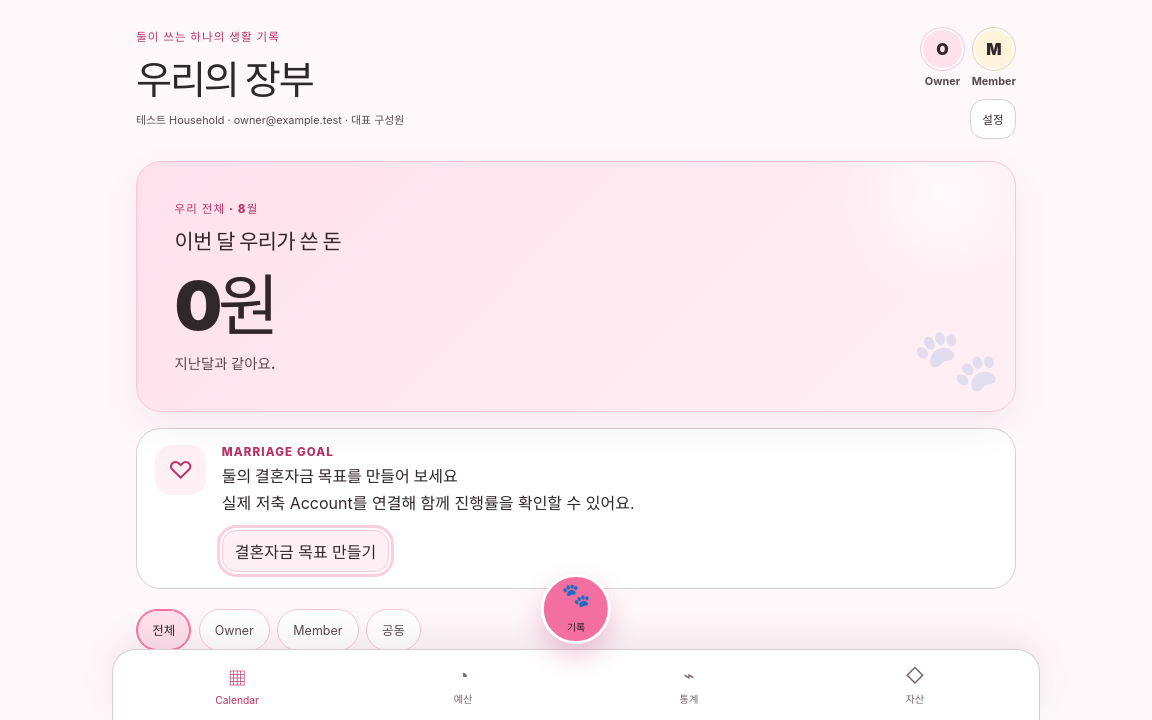
Test: App › restores the Calendar Goal create opener when the Sheet is cancelled
Click the button "결혼자금 목표 만들기" at (306, 551), box [222, 530, 389, 572]
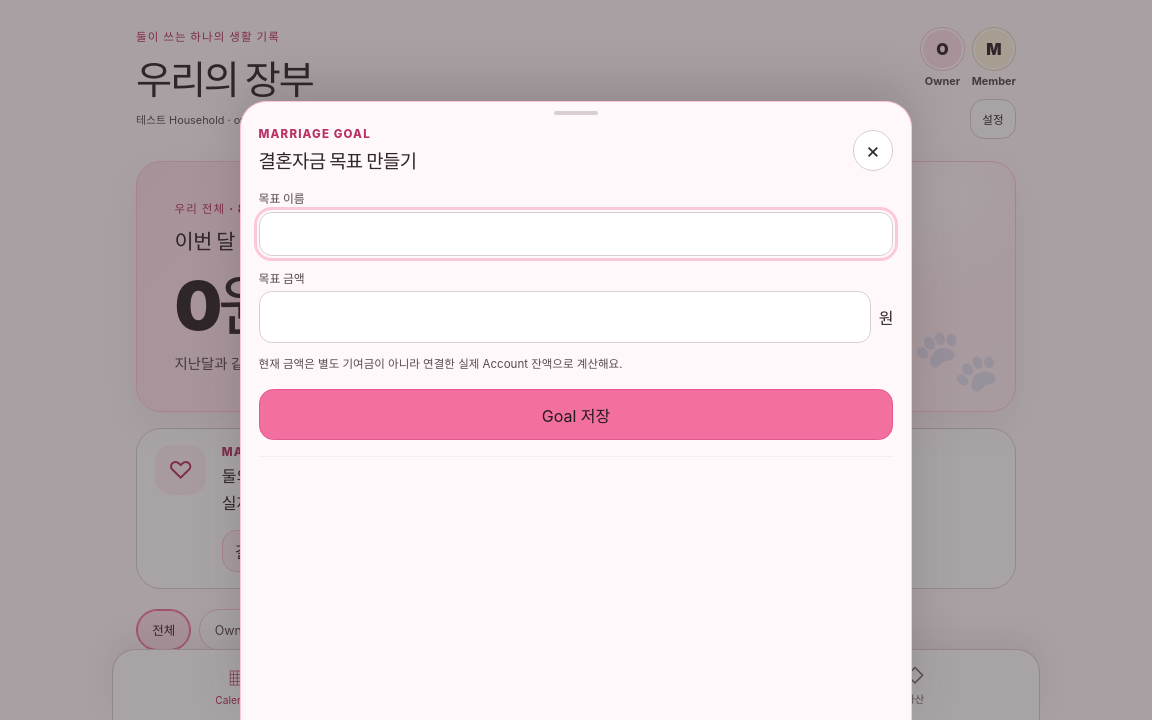
Press Escape
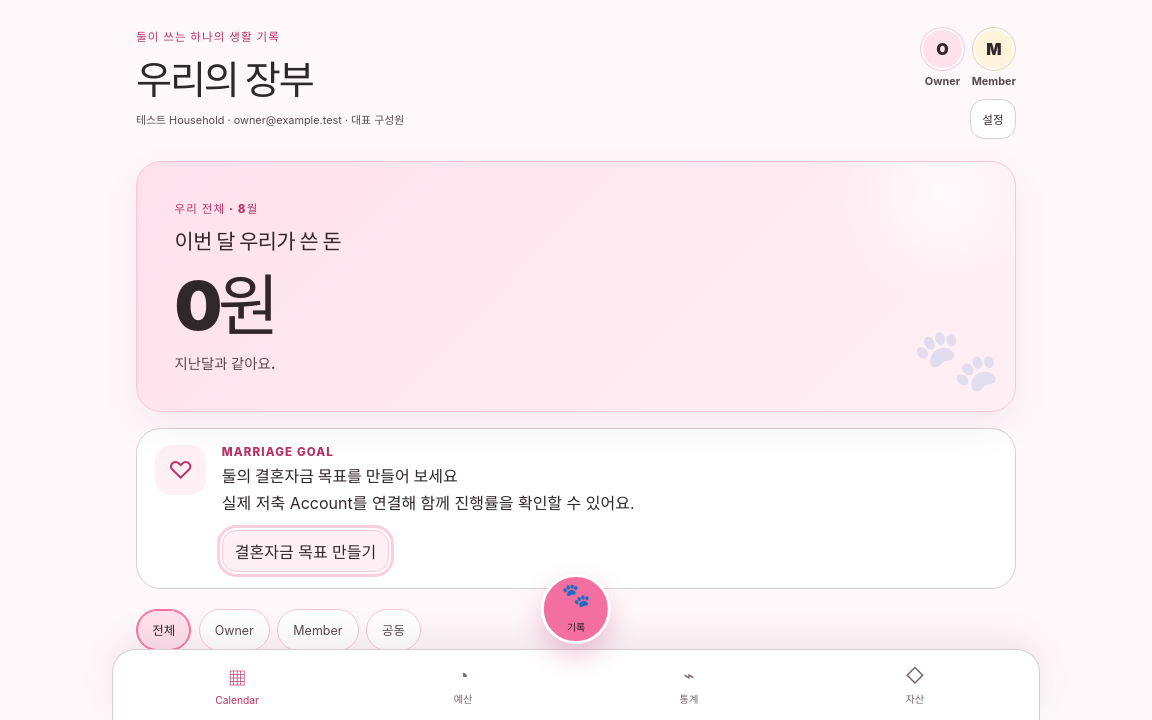
Expected: the dialog is gone
